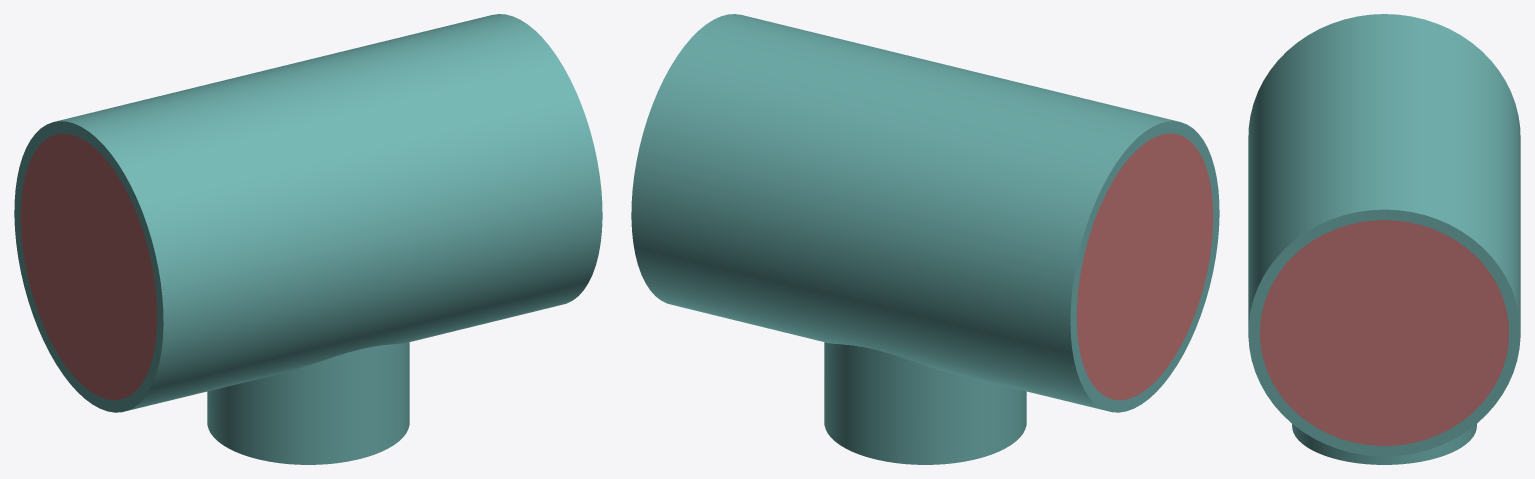
File: step_18.glb
The picture shows the model from 3 angles, left to right: view 1: azimuth 30°, elevation 25°; view 2: azimuth 150°, elevation 25°; view 3: azimuth 270°, elevation 25°; orthographic projection. The views are drawn at different scales.
Parts seen in each view (by area): view 1: part__6" x 4" reducing tee, removed__6" x 4" reducing tee; view 2: part__6" x 4" reducing tee, removed__6" x 4" reducing tee; view 3: part__6" x 4" reducing tee, removed__6" x 4" reducing tee.
Boxes of the visible parts, x1,y1,x2,y2 form: part__6" x 4" reducing tee: (14,14,602,464); removed__6" x 4" reducing tee: (20,133,157,400); part__6" x 4" reducing tee: (631,14,1219,464); removed__6" x 4" reducing tee: (1076,133,1213,400); part__6" x 4" reducing tee: (1248,14,1520,464); removed__6" x 4" reducing tee: (1260,220,1508,445).
Size of the model in its own units: 286 by 214 by 168.
